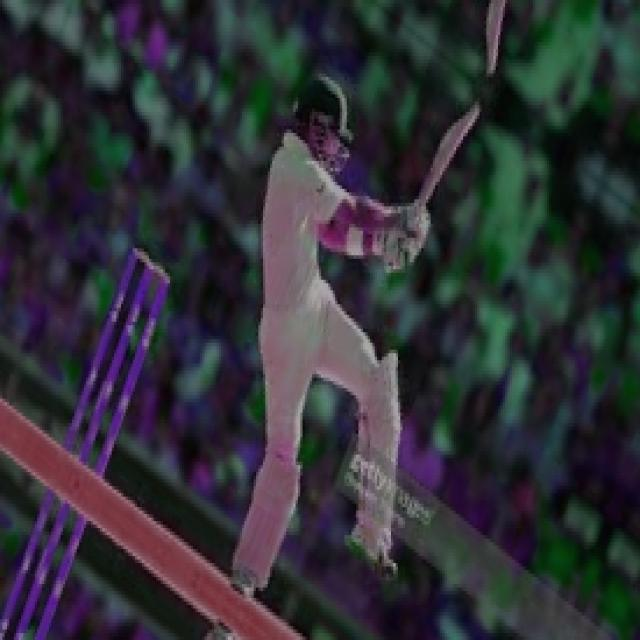toe: (456, 104, 487, 138)
